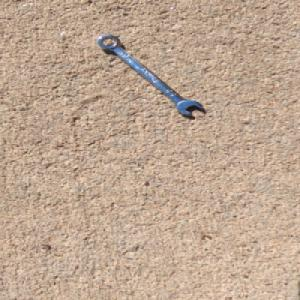Wrench: (93, 34, 203, 117)
